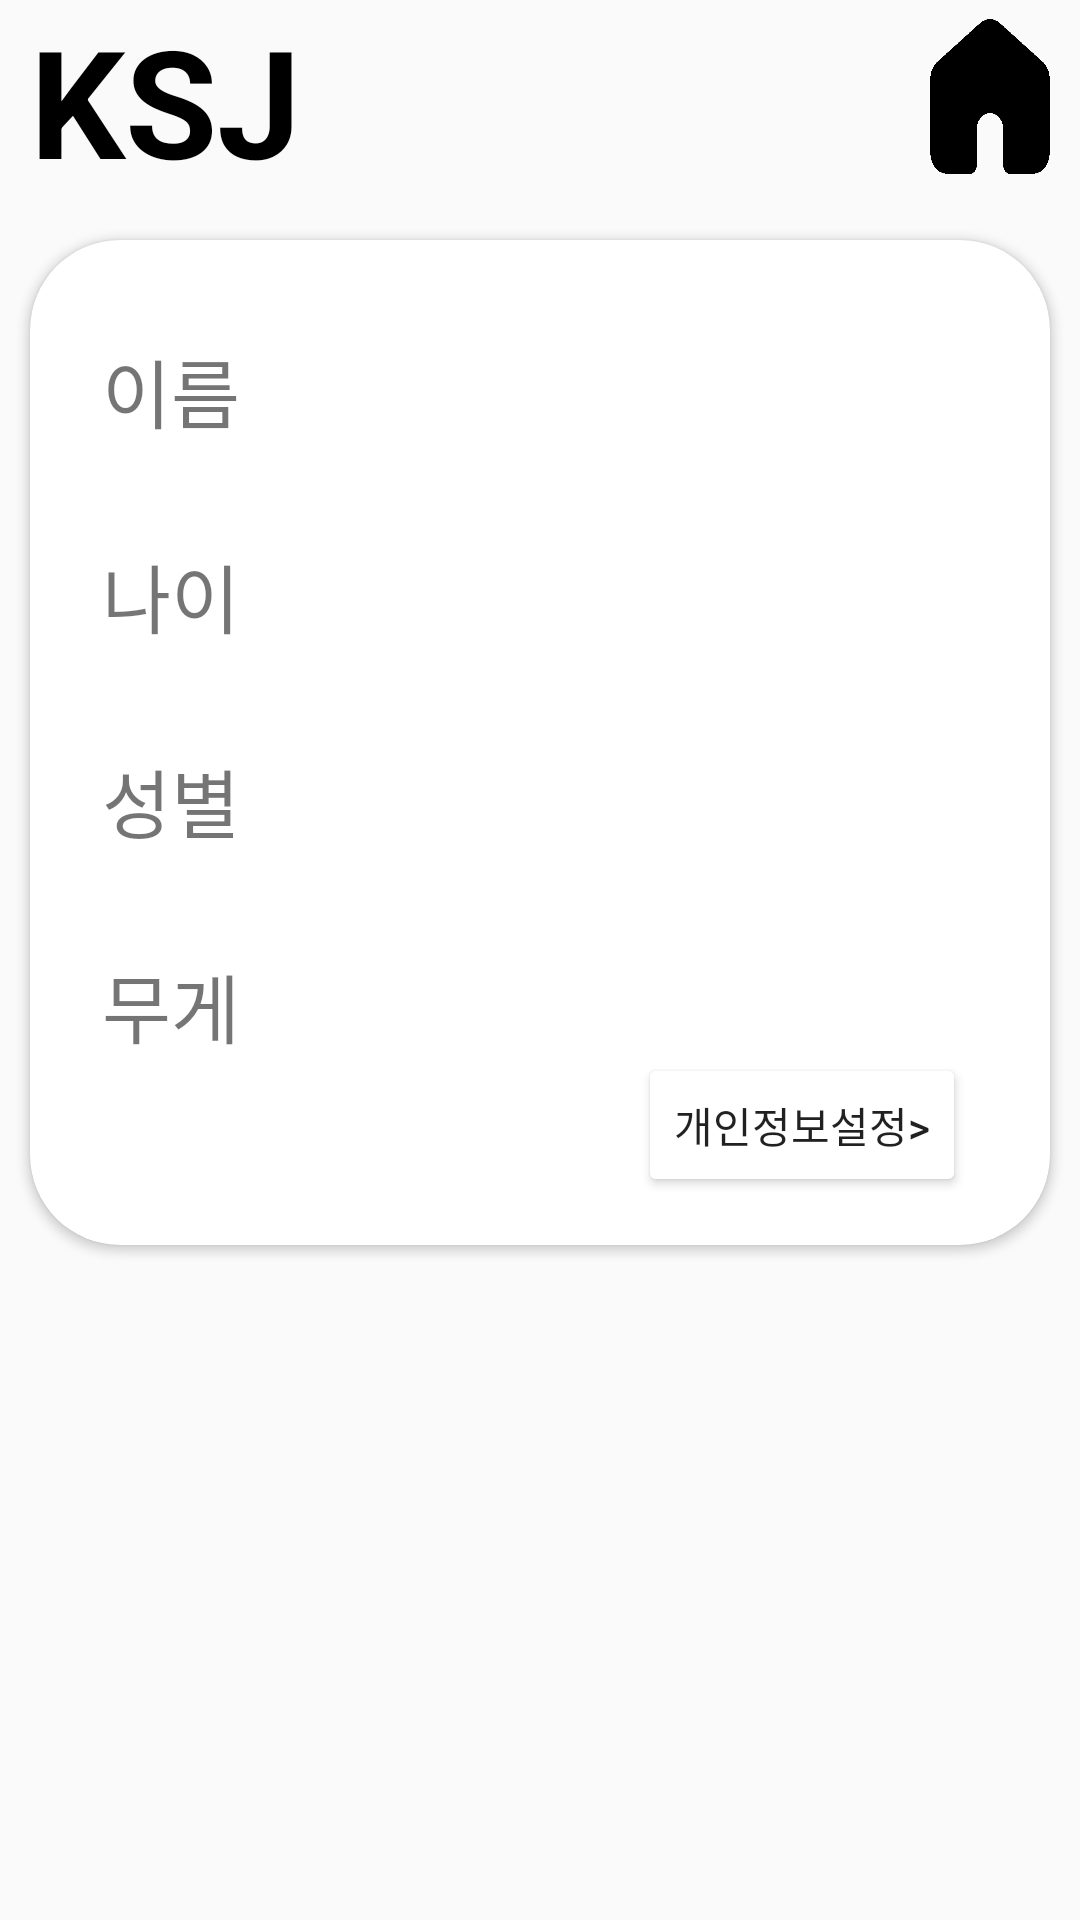

Where icons sit on this 1080x1920 app screen, as [x1, y1, x2, y2]:
btnhome: [930, 19, 1050, 174]
